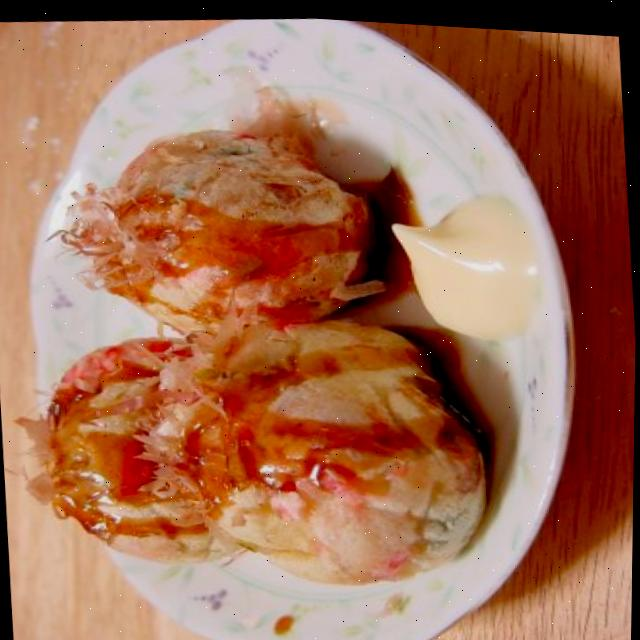炸货点心: (6, 95, 511, 594)
